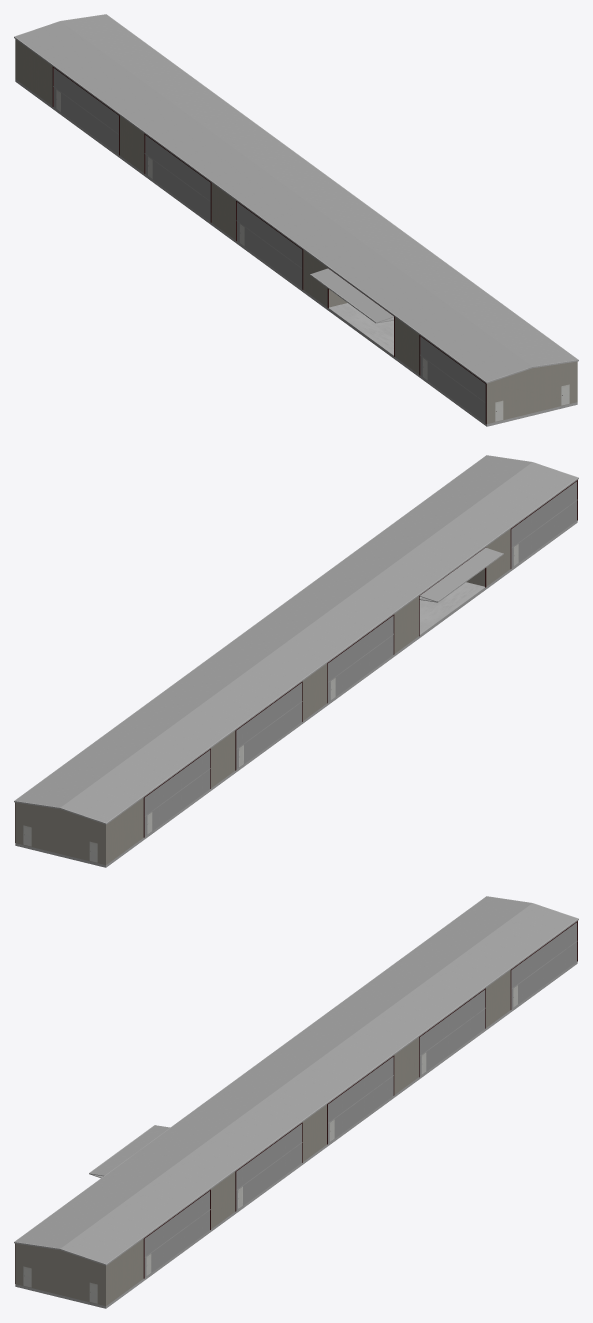
Rendered from gen_open_hangar04-99x11x5-cbj_LOD01.gltf.
The picture shows the model from 3 angles, top to bottom: view 1: azimuth 30°, elevation 25°; view 2: azimuth 150°, elevation 25°; view 3: azimuth 330°, elevation 25°; orthographic projection.
Parts seen in each view (by area): view 1: Cube.015; view 2: Cube.015; view 3: Cube.015.
Boxes of the visible parts, x1,y1,x2,y2 form: Cube.015: (14,14,578,426); Cube.015: (14,455,578,867); Cube.015: (14,896,578,1308).
Bounding box in the file's own units: 13.37 × 5.7 × 99.2.
